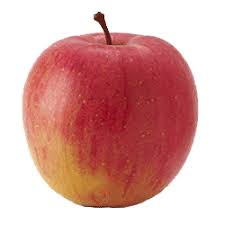apple: (26, 35, 197, 210)
